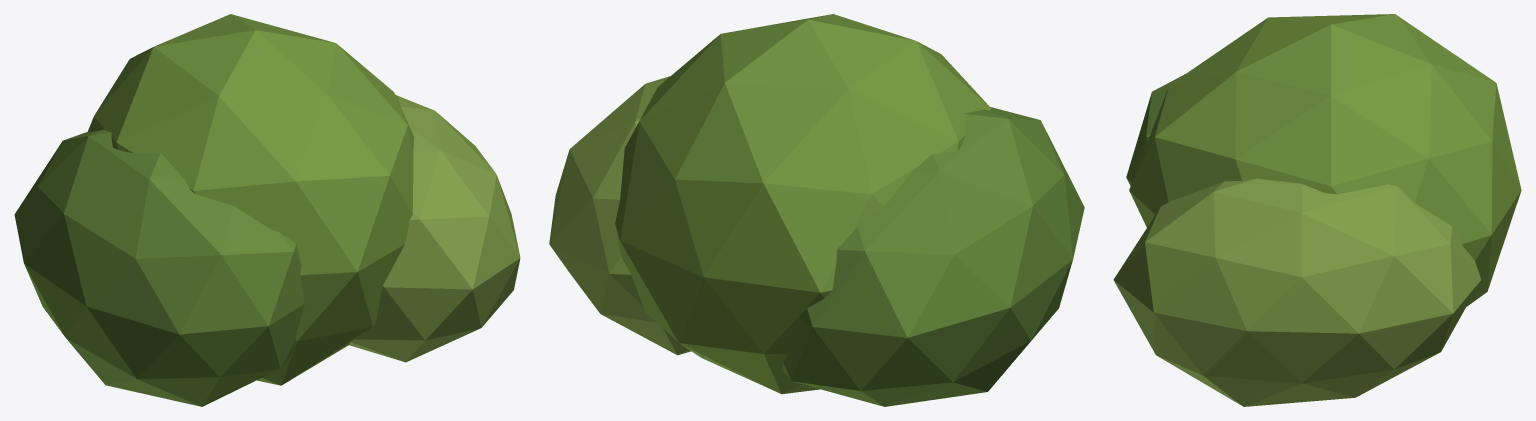
The model's file is bush.glb.
The picture shows the model from 3 angles, left to right: view 1: azimuth 30°, elevation 25°; view 2: azimuth 150°, elevation 25°; view 3: azimuth 270°, elevation 25°; orthographic projection. The views are drawn at different scales.
Parts seen in each view (by area): view 1: Left foliage; view 2: Left foliage; view 3: Left foliage.
Part boxes in pixels (bbox=[...]): Left foliage: bbox=[14, 14, 520, 406]; Left foliage: bbox=[549, 14, 1084, 406]; Left foliage: bbox=[1113, 14, 1521, 406].
Size of the model in its own units: 1.2 by 0.9 by 1.
